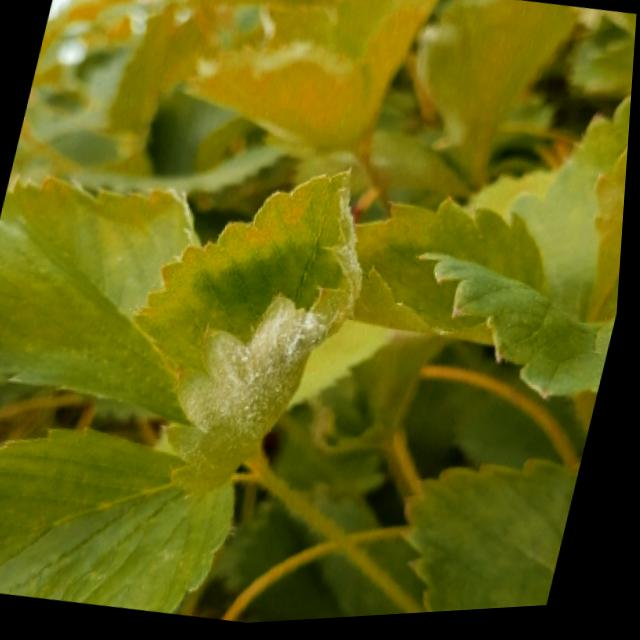Powdery Mildew Leaf: (135, 171, 366, 496)
